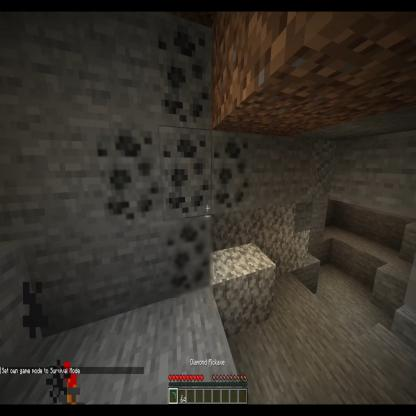coal ore: (91, 128, 165, 232), (158, 10, 216, 133), (158, 123, 214, 218), (164, 212, 213, 298), (211, 124, 252, 221)
